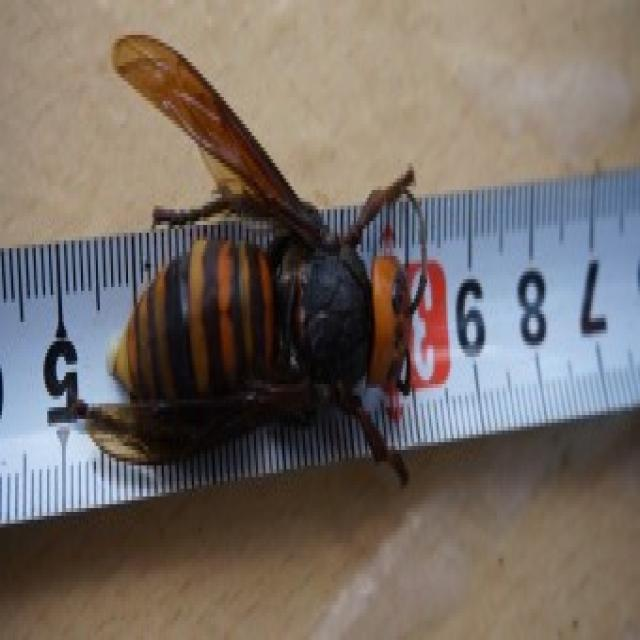Wasp: (92, 29, 424, 492)
